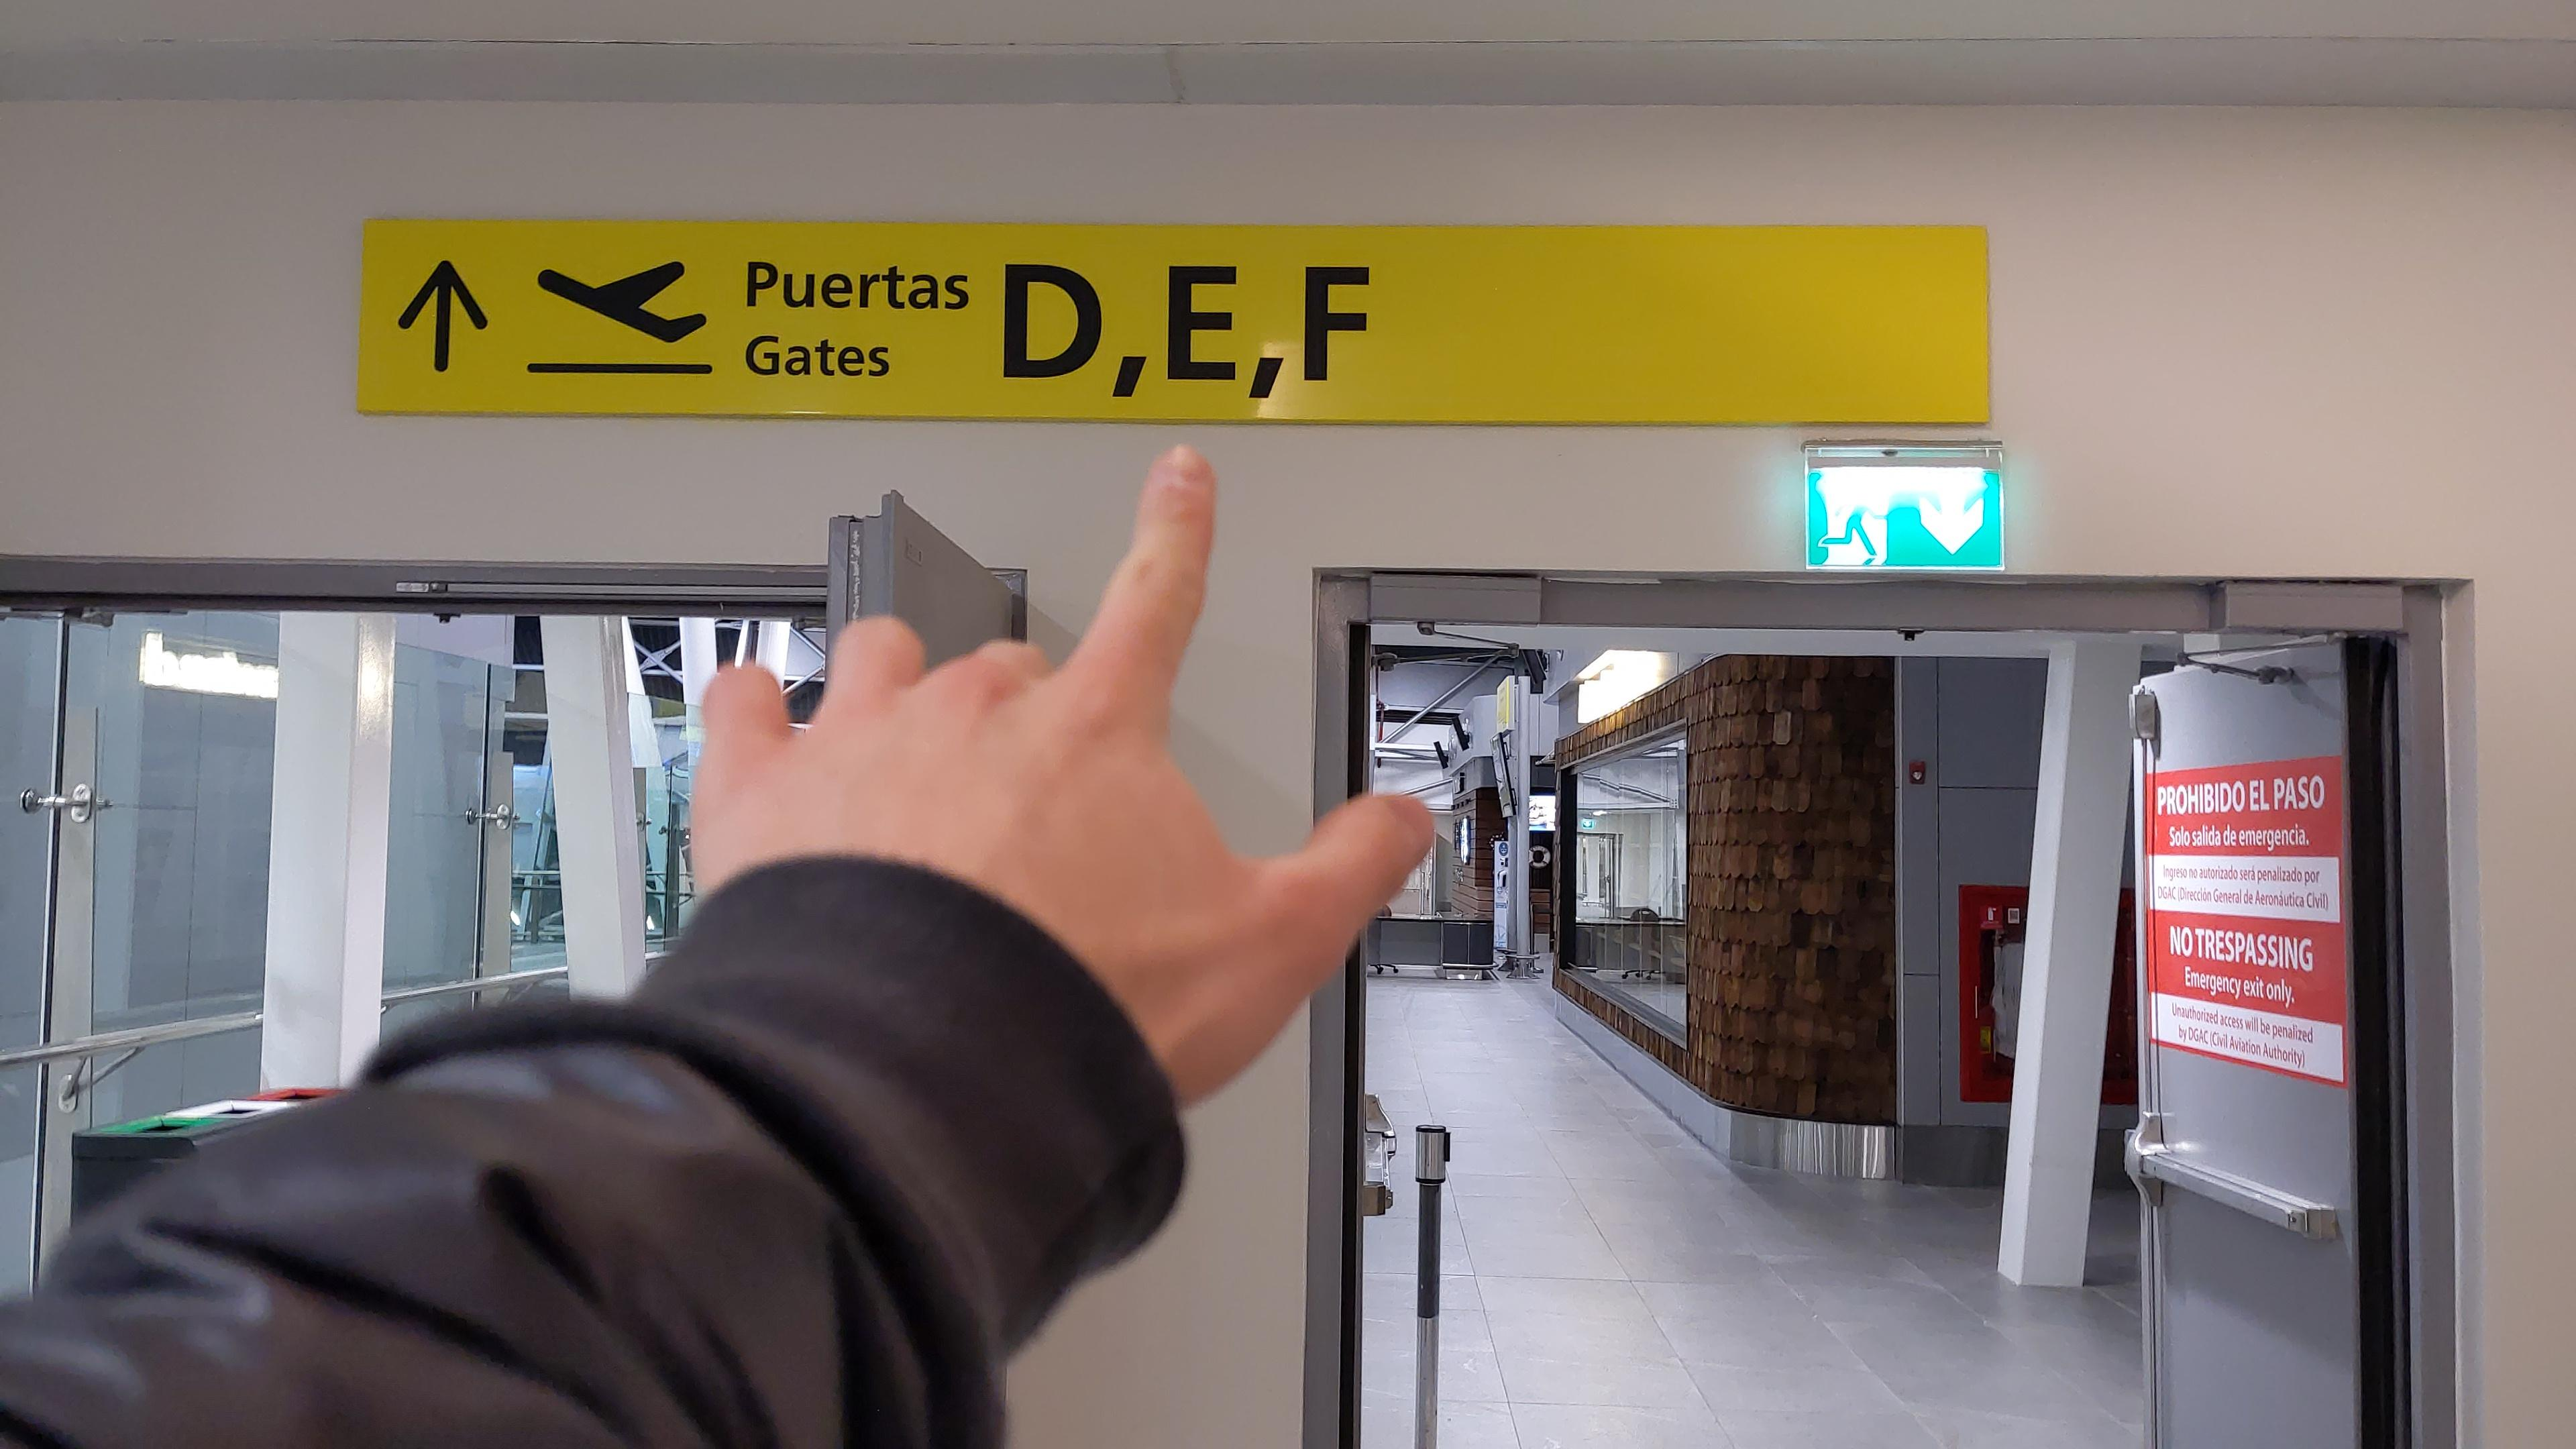airplane symbol: (529, 255, 709, 347)
up arrow: (396, 255, 492, 380)
